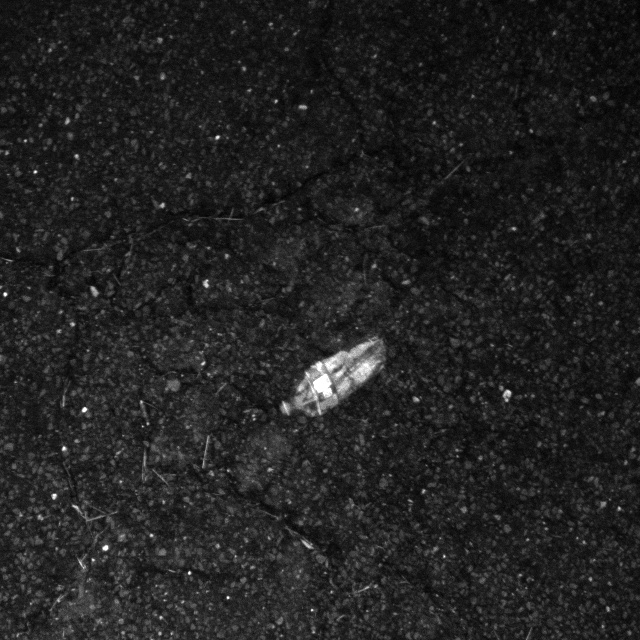bottle: (274, 326, 398, 425)
